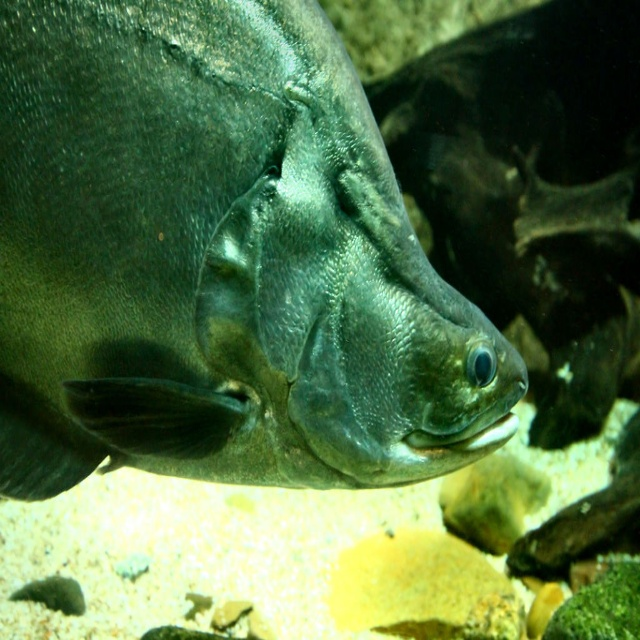Fish: (0, 0, 525, 489)
